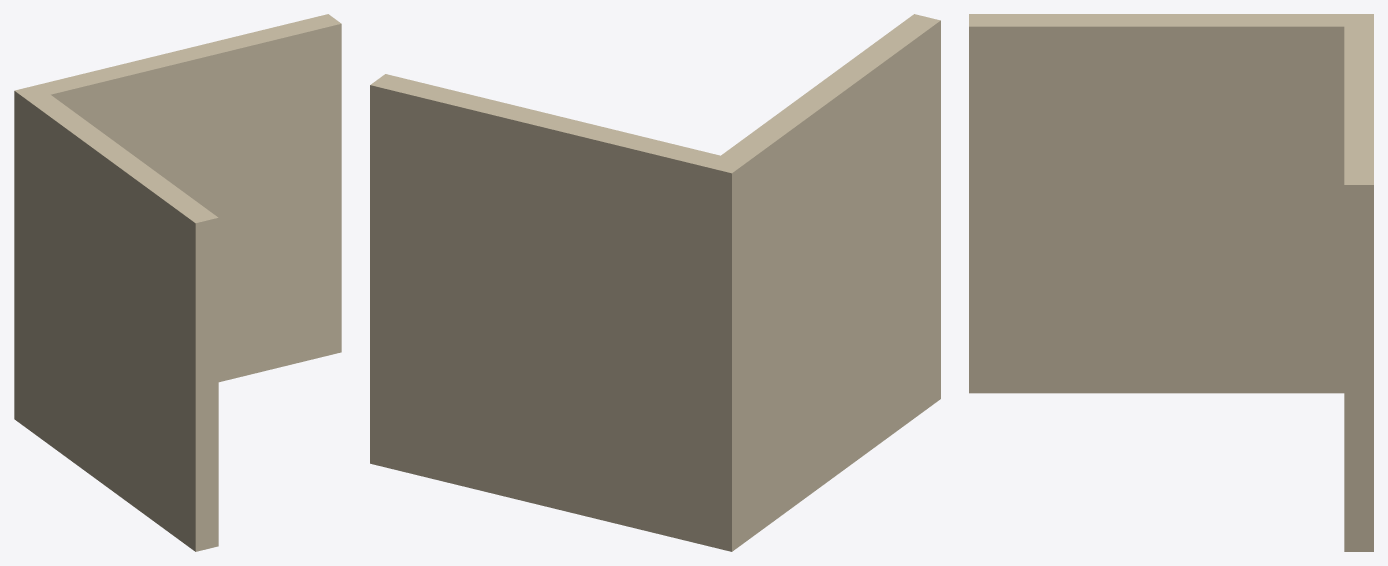
Rendered from corner.glb.
3 views of the same model, side by side, from view 1: azimuth 30°, elevation 25°; view 2: azimuth 150°, elevation 25°; view 3: azimuth 270°, elevation 25° (orthographic). The views are drawn at different scales.
Parts seen in each view (by area): view 1: corner; view 2: corner; view 3: corner.
Part boxes in pixels (x1,y1,x2,y2): corner: (14,14,341,551); corner: (370,14,940,551); corner: (969,14,1373,551).
Bounding box in the file's own units: 3 × 3 × 3.
